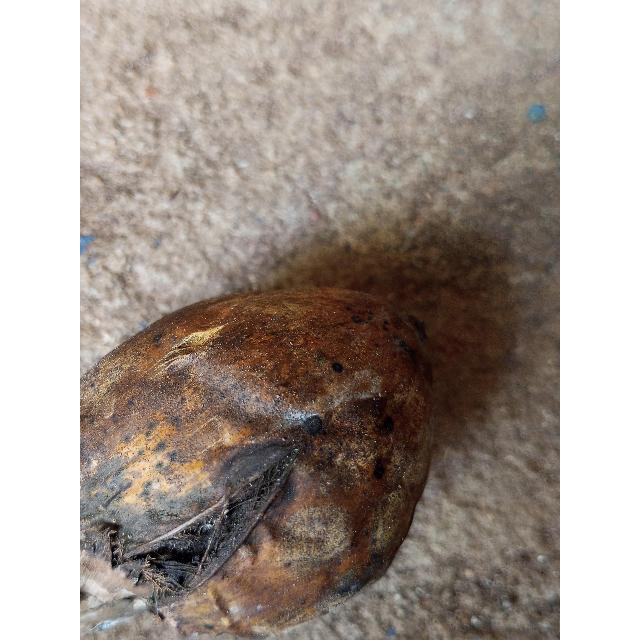damaged: (80, 288, 432, 636)
